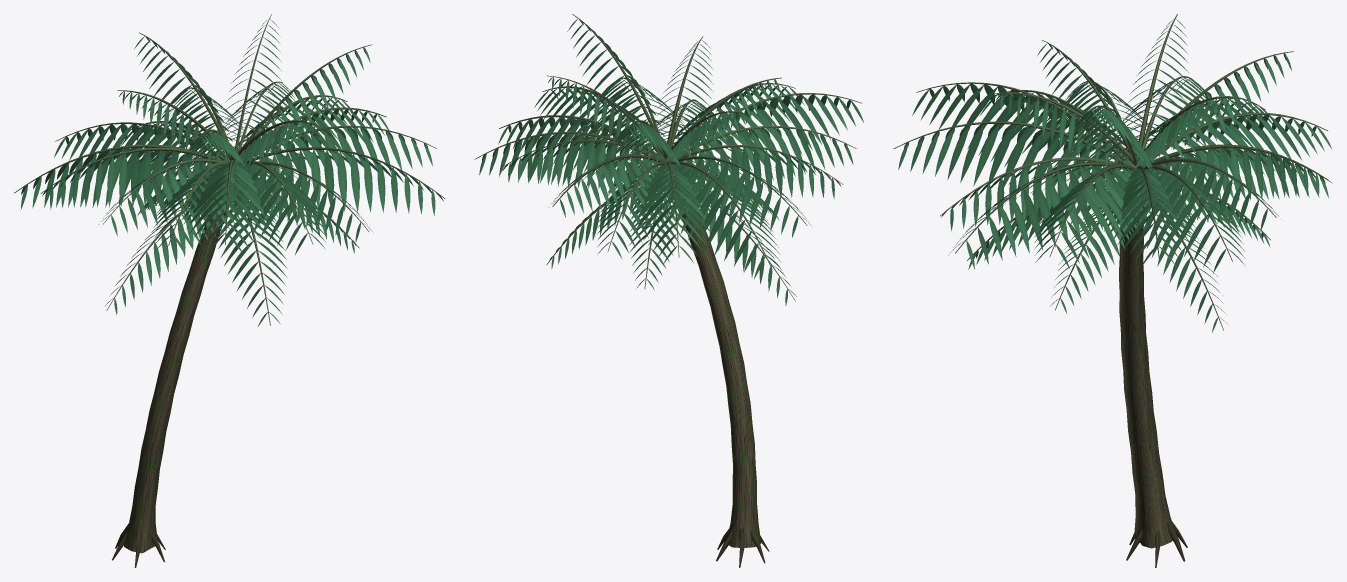
File: Arch Palm.glb
The picture shows the model from 3 angles, left to right: view 1: azimuth 30°, elevation 25°; view 2: azimuth 150°, elevation 25°; view 3: azimuth 270°, elevation 25°; orthographic projection. The views are drawn at different scales.
Visible parts, largest first — view 1: Arch Palm; view 2: Arch Palm; view 3: Arch Palm.
Boxes of the visible parts, x1,y1,x2,y2 form: Arch Palm: (14,14,445,567); Arch Palm: (474,14,863,567); Arch Palm: (893,14,1332,567).
Bounding box in the file's own units: 8.14 × 11.26 × 8.05.
3 materials, 1 textured.
